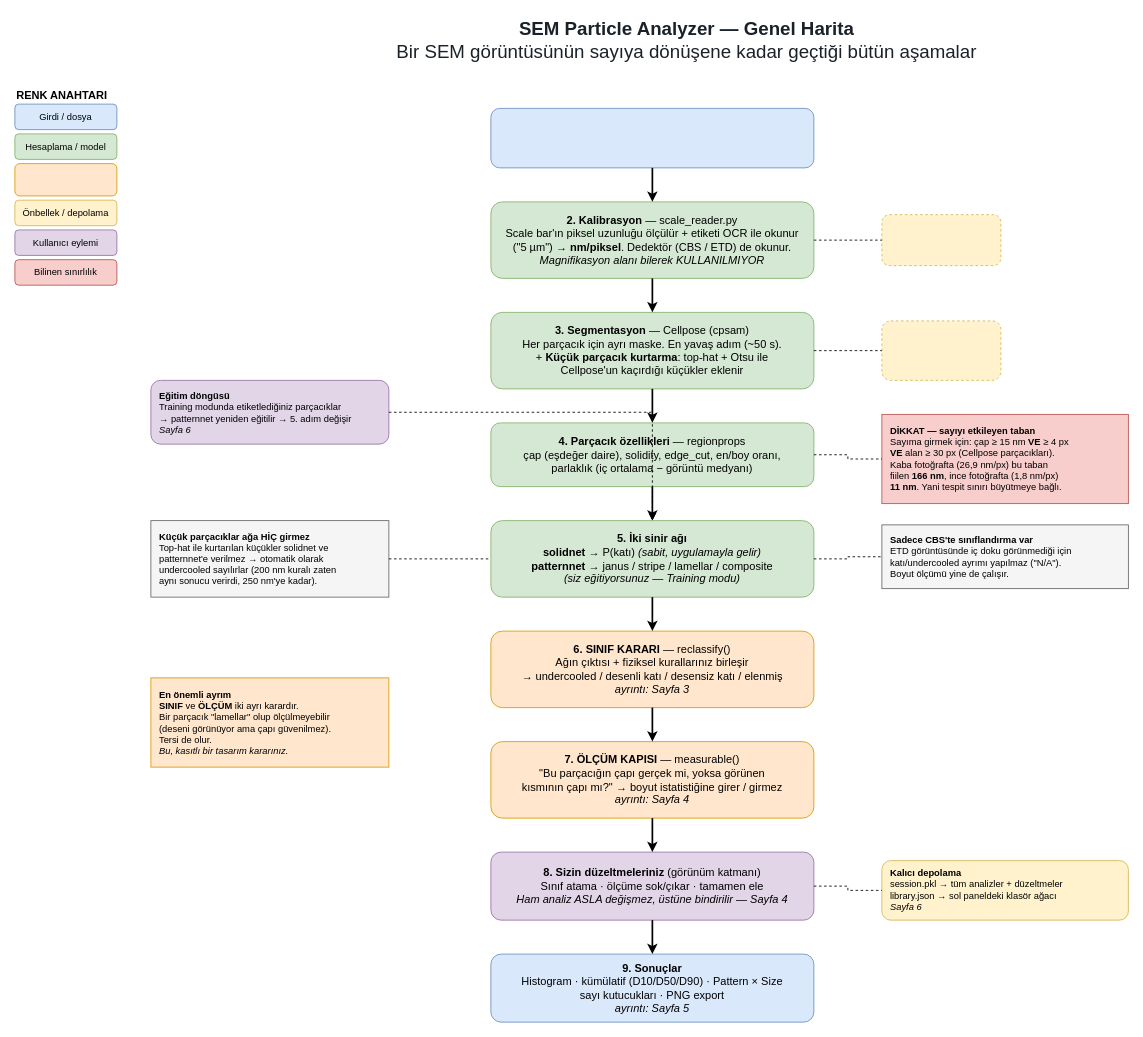
This 1143x1037 diagram has some shape labels left out. The box of each missing label's shape, as (x1, y1, x2, y2) in pixels:
1. SEM görüntüsü 1536 × 1103 px, .jpeg / .tif alt 70 px = cihaz bilgi çubuğu: (490, 108, 814, 168)
Kural / eşik (ayarlanabilir): (14, 163, 117, 196)
Önbellek Cellpose maskeleri (.npz — yeniden analizi 50 s'den ~10 s'ye indirir): (881, 320, 1001, 380)
Önbellek nm/px sonucu (.scale.json): (881, 214, 1001, 266)
